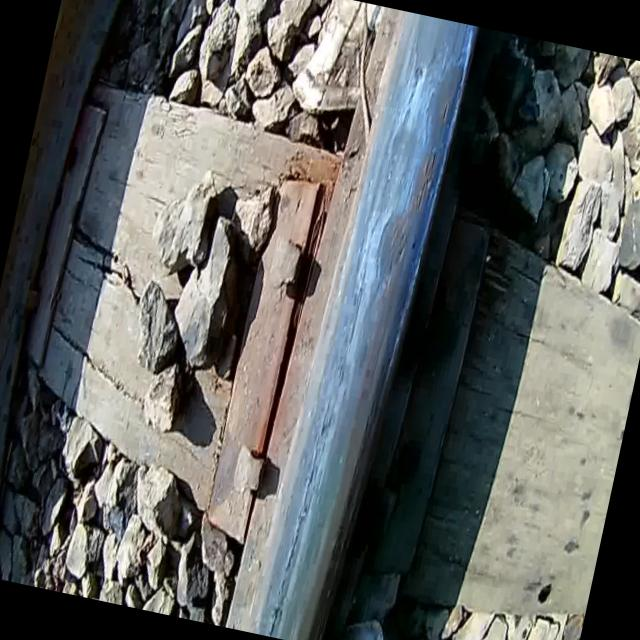Squats: (231, 2, 498, 640)
